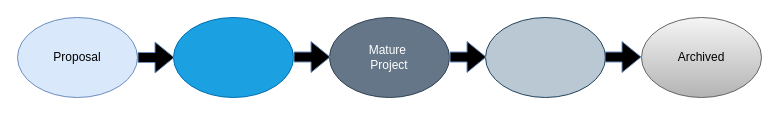
This 779x115 diagram has some shape labels left out. The shapes that lost their labels are listed below. From the top down, each one's box as (x1, y1, x2, y2) in pixels, then its label:
(172, 16, 294, 98): Incubator Stage
(484, 16, 606, 98): Core Development
